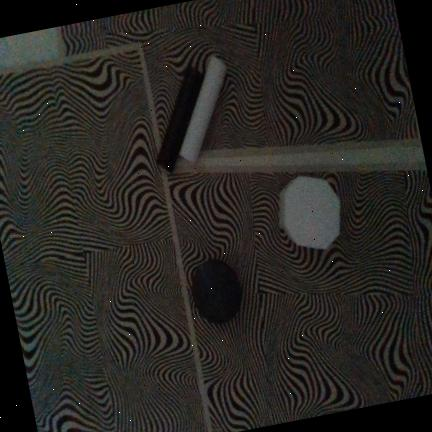Cilindro: (180, 56, 228, 162), (157, 66, 203, 171)
Esfera: (191, 259, 242, 324)
Prisma_hexagonal: (279, 176, 341, 249)
